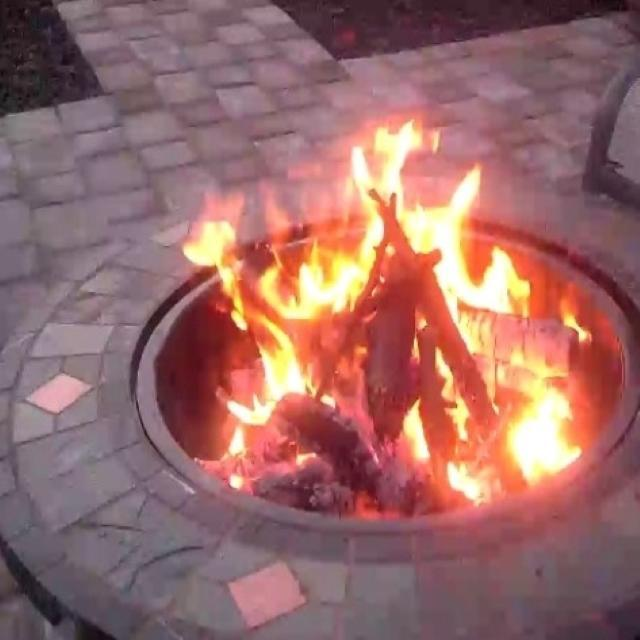Fire: (177, 114, 588, 506)
